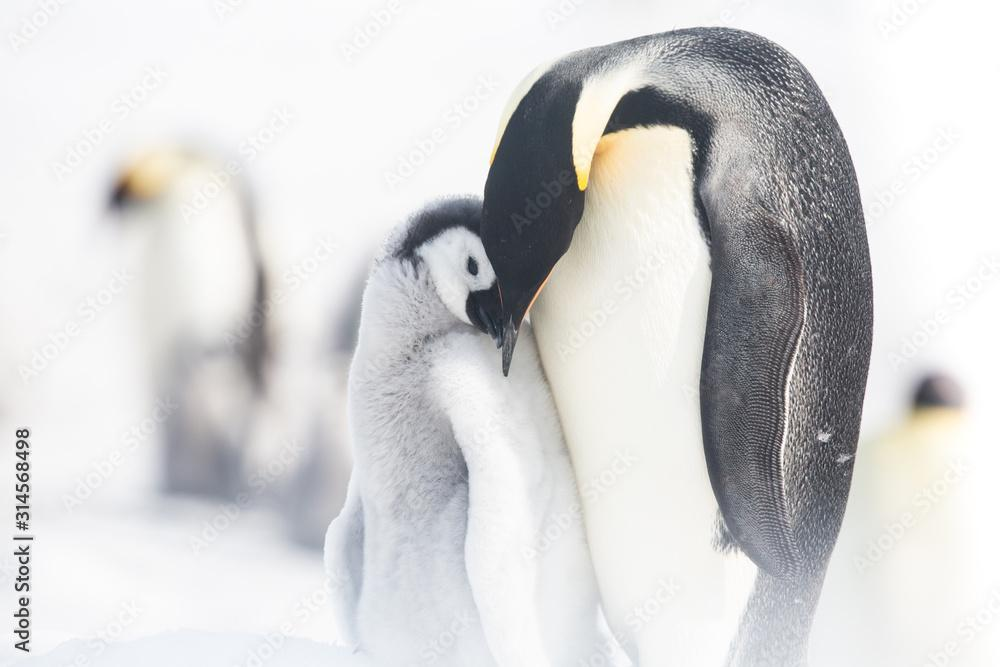emporer: (419, 24, 910, 667)
